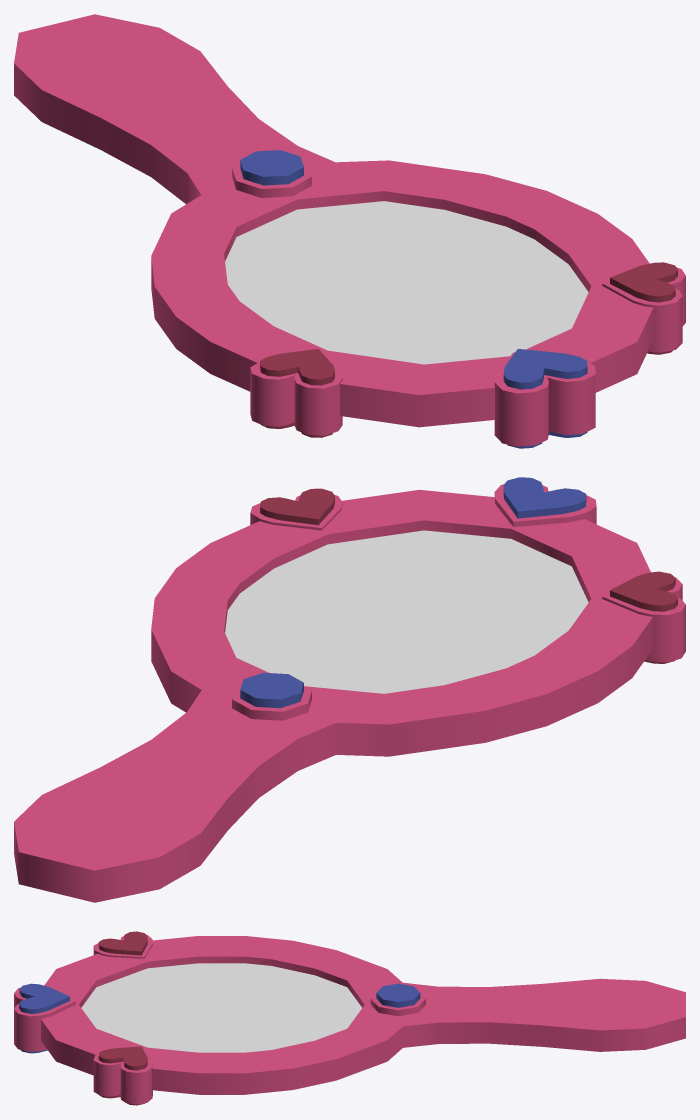
Rendered from Mirror_01.fbx.
3 renders of one model, top to bottom at view 1: azimuth 30°, elevation 25°; view 2: azimuth 150°, elevation 25°; view 3: azimuth 270°, elevation 25°, orthographic. The views are drawn at different scales.
Parts seen in each view (by area): view 1: Mirror_01; view 2: Mirror_01; view 3: Mirror_01.
Part boxes in pixels (bbox=[...]): Mirror_01: bbox=[14, 14, 685, 448]; Mirror_01: bbox=[14, 477, 685, 902]; Mirror_01: bbox=[14, 931, 685, 1105].
Bounding box in the file's own units: 0.1665 × 0.0265 × 0.3378.
